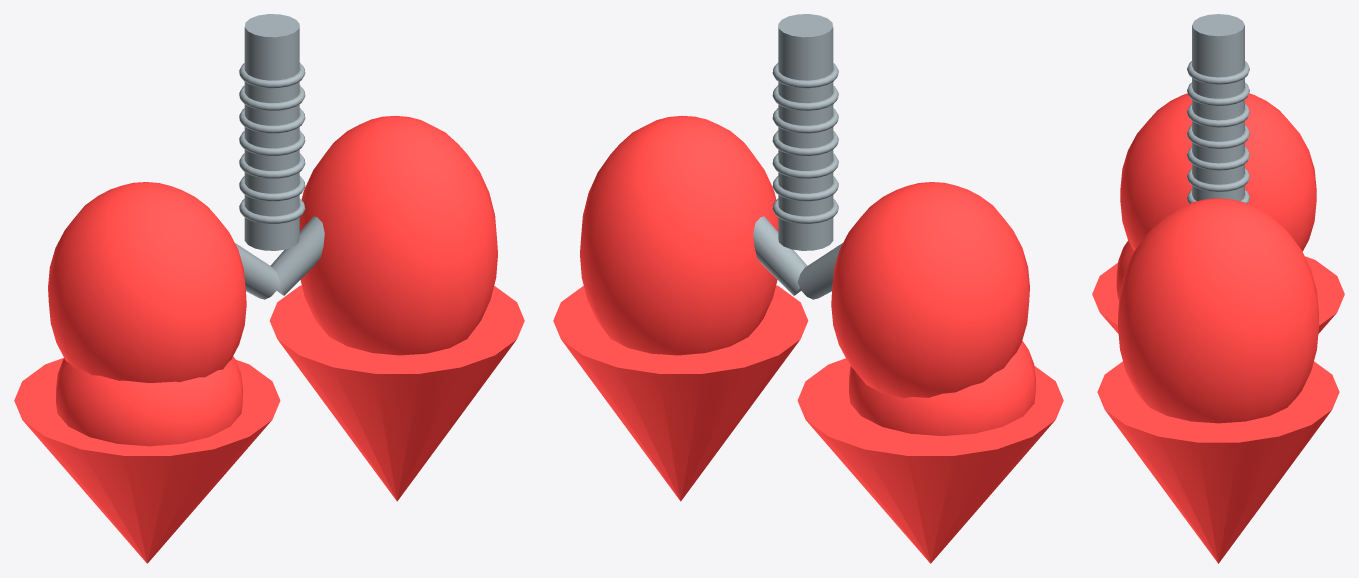
The model's file is lungs.glb.
The picture shows the model from 3 angles, left to right: view 1: azimuth 30°, elevation 25°; view 2: azimuth 150°, elevation 25°; view 3: azimuth 270°, elevation 25°; orthographic projection. The views are drawn at different scales.
Parts seen in each view (by area): view 1: HumanLungs; view 2: HumanLungs; view 3: HumanLungs.
Boxes of the visible parts, x1,y1,x2,y2 form: HumanLungs: (14,14,524,563); HumanLungs: (553,14,1063,563); HumanLungs: (1092,14,1344,563).
Bounding box in the file's own units: 1.97 × 2.02 × 0.96.
